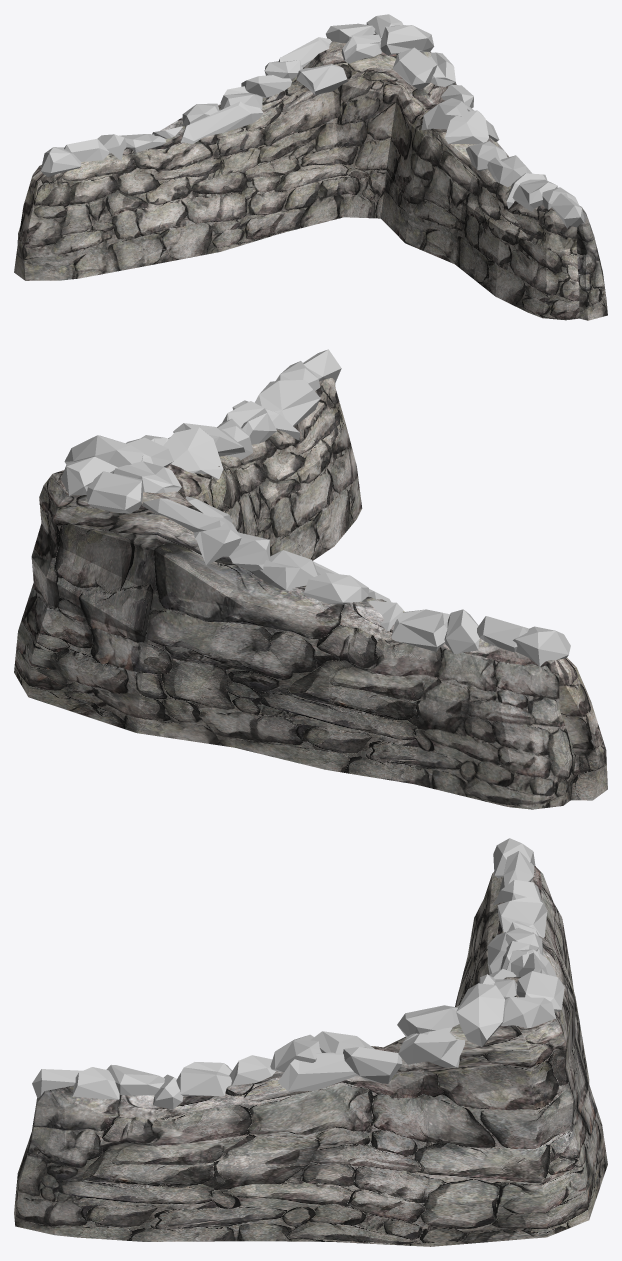
Rendered from Wall_3_LOD1.fbx.
3 renders of one model, top to bottom at view 1: azimuth 30°, elevation 25°; view 2: azimuth 150°, elevation 25°; view 3: azimuth 270°, elevation 25°, orthographic. The views are drawn at different scales.
Visible parts, largest first — view 1: Wall, Rock; view 2: Wall, Rock; view 3: Wall, Rock.
Boxes of the visible parts, box(x1,y1,x2,y2) form: Wall: box(14, 34, 607, 320); Rock: box(41, 14, 584, 228); Wall: box(14, 378, 607, 809); Rock: box(61, 349, 570, 666); Wall: box(14, 866, 607, 1246); Rock: box(32, 838, 564, 1109).
Size of the model in its own units: 802 by 725 by 293.
